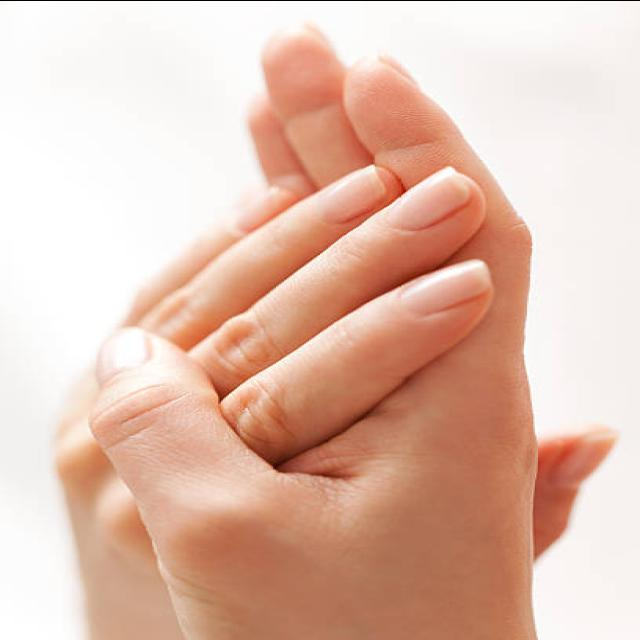Nail: (387, 165, 471, 230), (398, 259, 490, 314), (315, 165, 388, 222), (229, 186, 295, 238), (96, 326, 152, 380)
